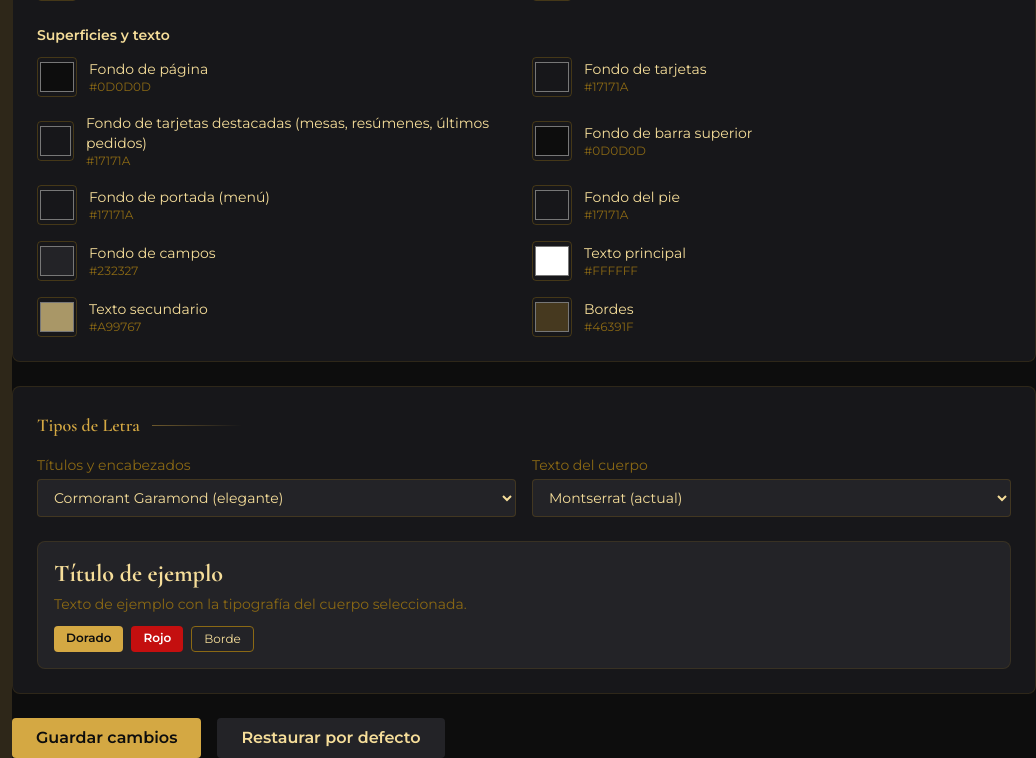
Test: guarda la tipografía de títulos cambiada
The image size is (1036, 758).
(page scrolled)
Select "Playfair Display (clásica)" in the dropdown labelled "Títulos y encabezados" at (276, 498), box [37,479,516,517]
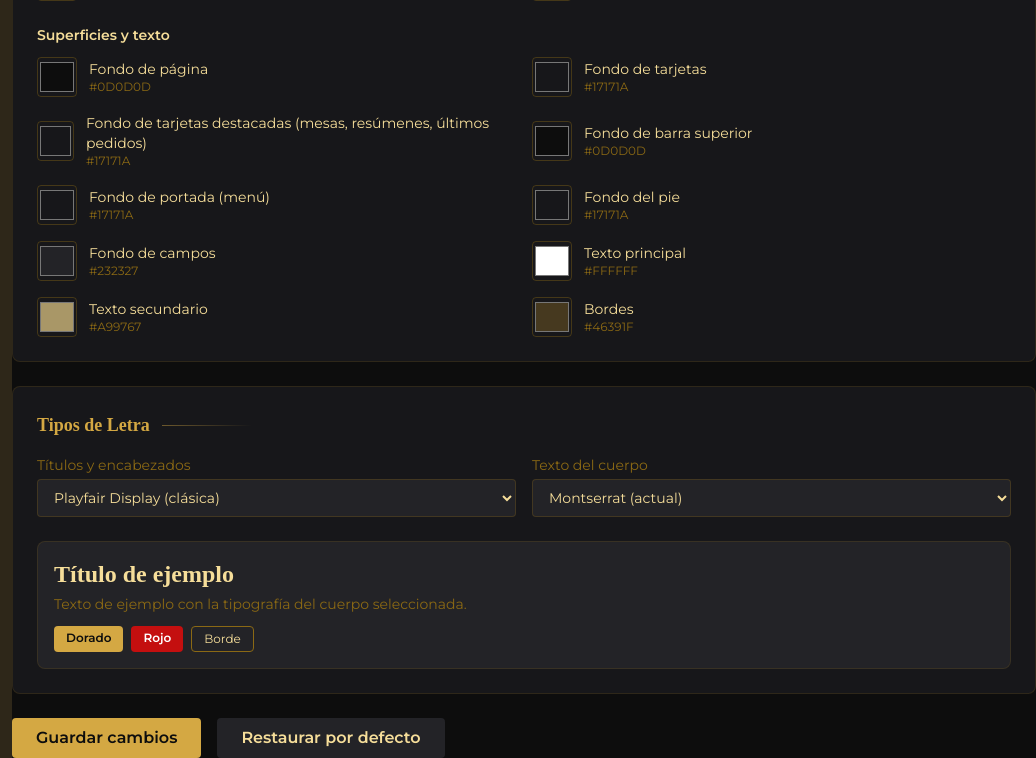
Click the button "Guardar cambios".
click(107, 738)  # box [12,718,201,757]
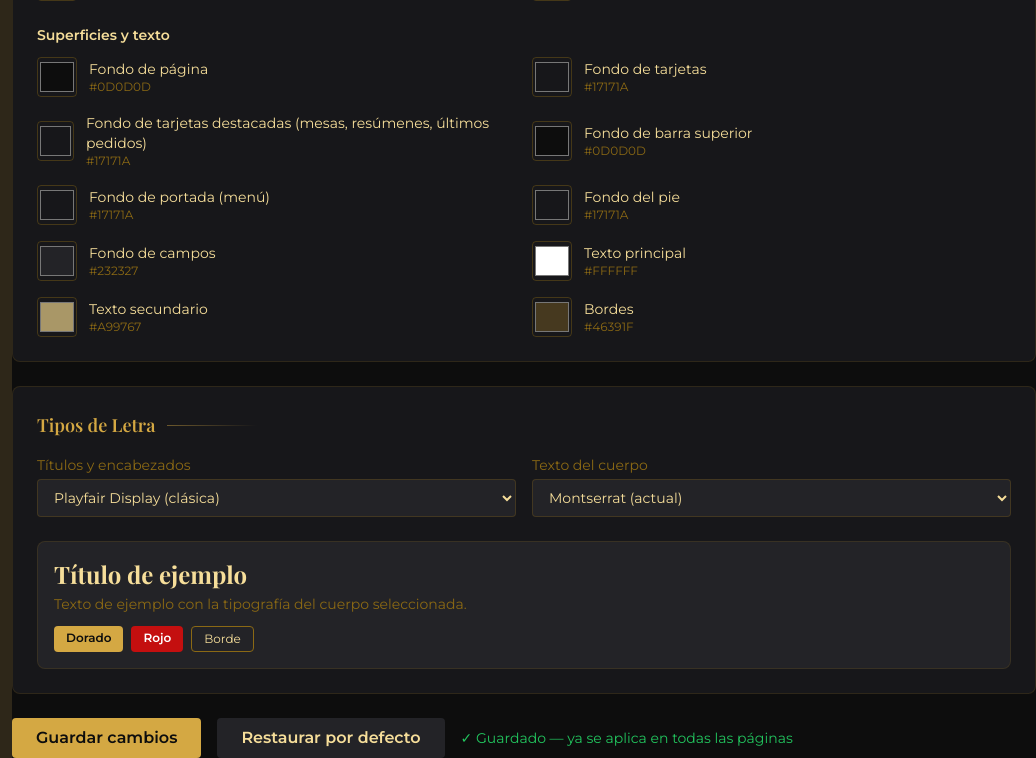
Expected: the text "✓ Guardado — ya se aplica en todas las páginas" is shown, [461,728,793,748]
